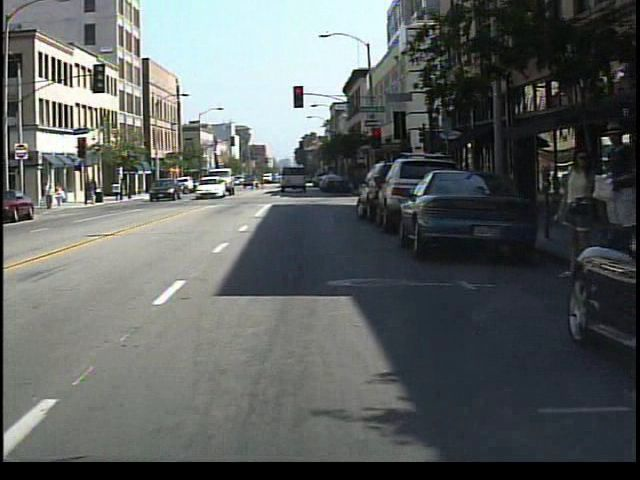person: (556, 142, 602, 290), (595, 116, 629, 283), (44, 179, 59, 213), (55, 183, 70, 211)
